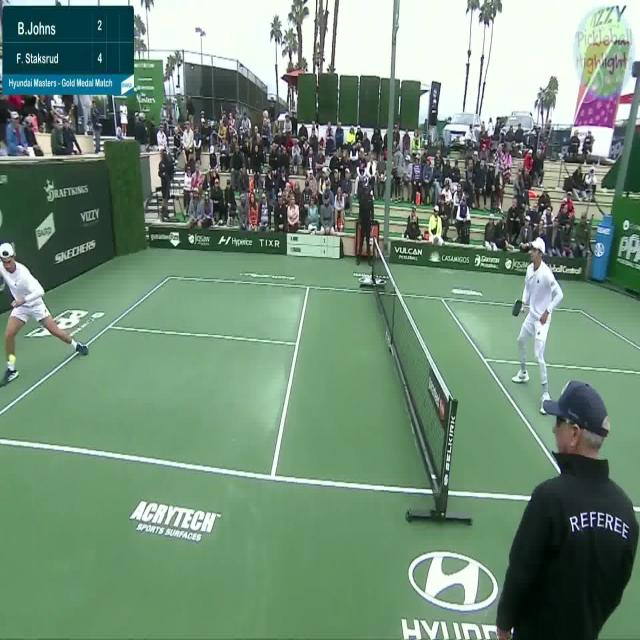ball: (8, 348, 17, 369)
